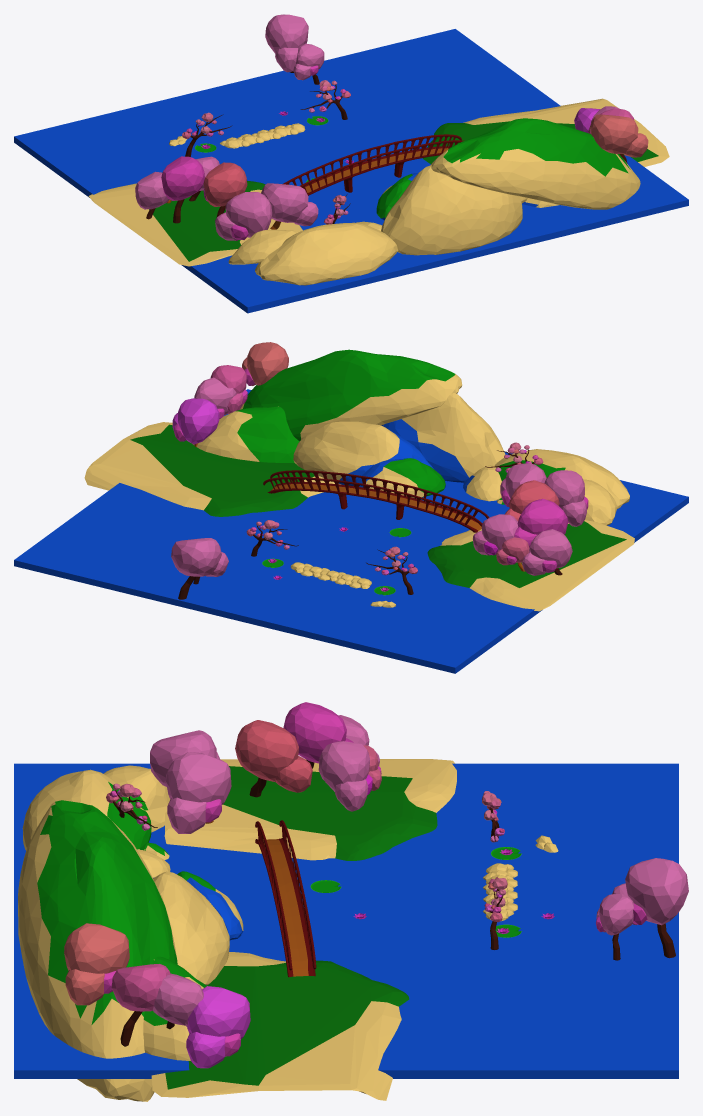
Rendered from Lago_sakura.obj.
3 views of the same model, one above another, from view 1: azimuth 30°, elevation 25°; view 2: azimuth 150°, elevation 25°; view 3: azimuth 270°, elevation 25° (orthographic). The views are drawn at different scales.
Visible parts, largest first — view 1: water_001_Cube.001, Icosphere, Grid_Grid.001, Circle, Grid.001_Grid.000, Icosphere.006_Icosphere.004, Icosphere.011_Icosphere.009, Icosphere.003_Icosphere.024, Icosphere.001_Icosphere.021, Icosphere.010_Icosphere.008, Icosphere.005_Icosphere.023, Icosphere.013_Icosphere.011 (+4 smaller); view 2: water_001_Cube.001, Icosphere, Grid.001_Grid.000, Grid_Grid.001, Circle, Icosphere.001_Icosphere.021, Icosphere.013_Icosphere.011, Icosphere.007_Icosphere.005, Icosphere.006_Icosphere.004, Icosphere.010_Icosphere.008, Icosphere.011_Icosphere.009, Icosphere.004_Icosphere.022 (+9 smaller); view 3: water_001_Cube.001, Icosphere, Grid.001_Grid.000, Grid_Grid.001, Circle, Icosphere.003_Icosphere.024, Icosphere.011_Icosphere.009, Icosphere.007_Icosphere.005, Icosphere.005_Icosphere.023, Icosphere.001_Icosphere.021, Icosphere.004_Icosphere.022, Icosphere.010_Icosphere.008 (+8 smaller).
Boxes of the visible parts, x1=… form: water_001_Cube.001: x1=14, y1=29, x2=688, y2=313; Icosphere: x1=228, y1=118, x2=640, y2=285; Grid_Grid.001: x1=88, y1=180, x2=302, y2=266; Circle: x1=282, y1=134, x2=464, y2=195; Grid.001_Grid.000: x1=422, y1=98, x2=669, y2=166; Icosphere.006_Icosphere.004: x1=215, y1=192, x2=272, y2=240; Icosphere.011_Icosphere.009: x1=590, y1=114, x2=648, y2=157; Icosphere.003_Icosphere.024: x1=261, y1=183, x2=318, y2=229; Icosphere.001_Icosphere.021: x1=265, y1=14, x2=308, y2=72; Icosphere.010_Icosphere.008: x1=161, y1=156, x2=204, y2=223; Icosphere.005_Icosphere.023: x1=203, y1=162, x2=247, y2=217; Icosphere.013_Icosphere.011: x1=135, y1=171, x2=169, y2=219; water_001_Cube.001: x1=14, y1=389, x2=688, y2=673; Icosphere: x1=192, y1=349, x2=629, y2=525; Grid.001_Grid.000: x1=84, y1=422, x2=340, y2=516; Grid_Grid.001: x1=427, y1=520, x2=634, y2=611; Circle: x1=263, y1=470, x2=489, y2=532; Icosphere.001_Icosphere.021: x1=171, y1=538, x2=228, y2=599; Icosphere.013_Icosphere.011: x1=522, y1=529, x2=572, y2=575; Icosphere.007_Icosphere.005: x1=172, y1=398, x2=219, y2=446; Icosphere.006_Icosphere.004: x1=544, y1=470, x2=588, y2=526; Icosphere.010_Icosphere.008: x1=514, y1=498, x2=568, y2=552; Icosphere.011_Icosphere.009: x1=242, y1=342, x2=288, y2=385; Icosphere.004_Icosphere.022: x1=473, y1=514, x2=518, y2=555; water_001_Cube.001: x1=14, y1=763, x2=678, y2=1078; Icosphere: x1=18, y1=765, x2=243, y2=1101; Grid.001_Grid.000: x1=151, y1=952, x2=409, y2=1100; Grid_Grid.001: x1=164, y1=759, x2=456, y2=860; Circle: x1=255, y1=820, x2=316, y2=977; Icosphere.003_Icosphere.024: x1=166, y1=752, x2=231, y2=833; Icosphere.011_Icosphere.009: x1=64, y1=923, x2=129, y2=1005; Icosphere.007_Icosphere.005: x1=186, y1=986, x2=250, y2=1068; Icosphere.005_Icosphere.023: x1=235, y1=720, x2=312, y2=797; Icosphere.001_Icosphere.021: x1=612, y1=858, x2=688, y2=958; Icosphere.004_Icosphere.022: x1=318, y1=741, x2=372, y2=811; Icosphere.010_Icosphere.008: x1=283, y1=702, x2=353, y2=768.
Size of the model in its own units: 97.94 by 23.95 by 82.59.
